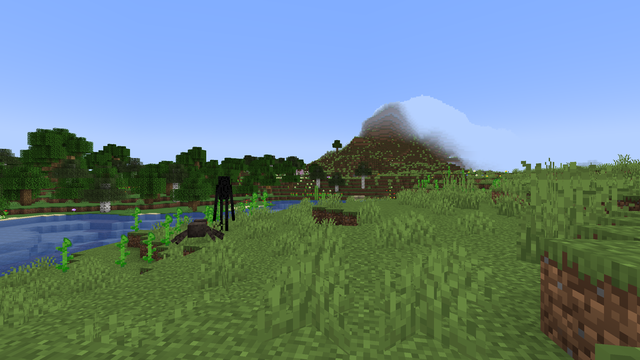araignees: (173, 216, 222, 243)
endermens: (215, 174, 232, 232)
